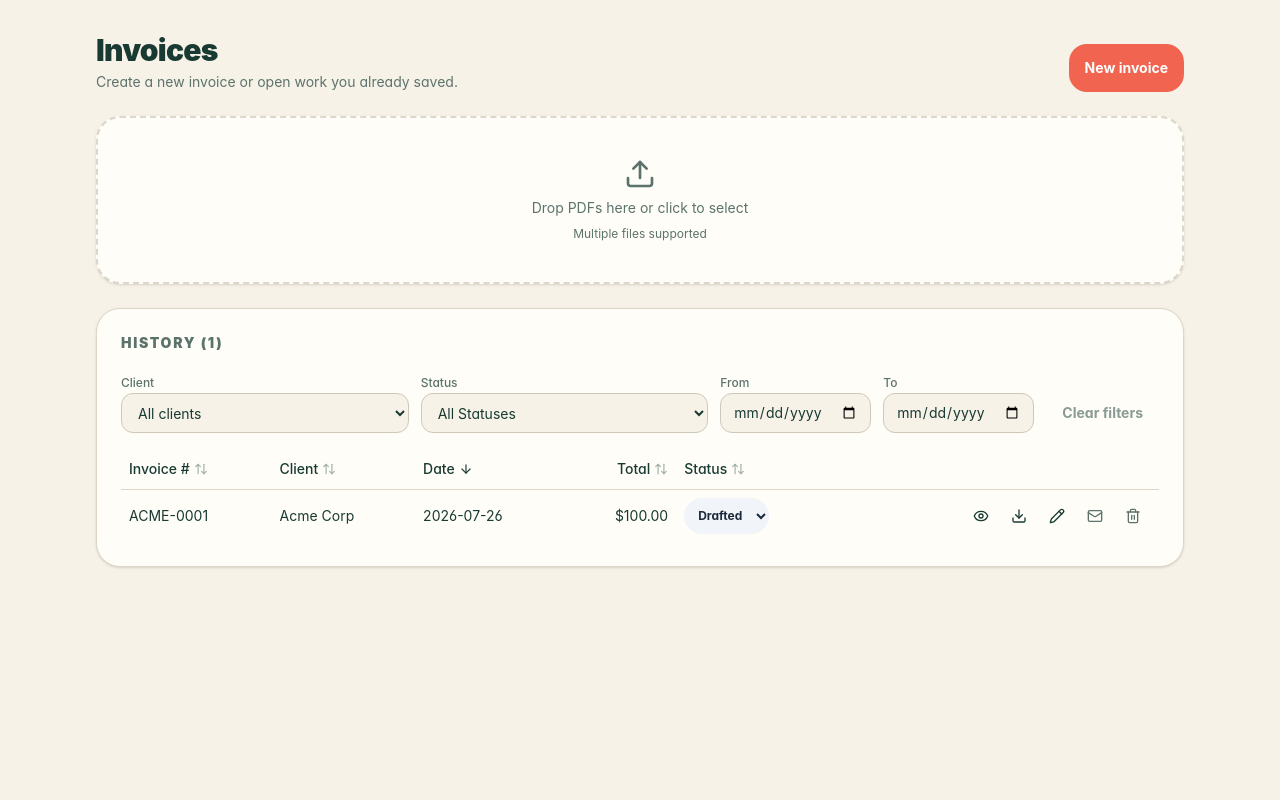
it: InvoicesPage history actions › offers Pro once the Free email allowance is used up
Click the button named "Email invoice": (1095, 516) [1077,498,1113,534]
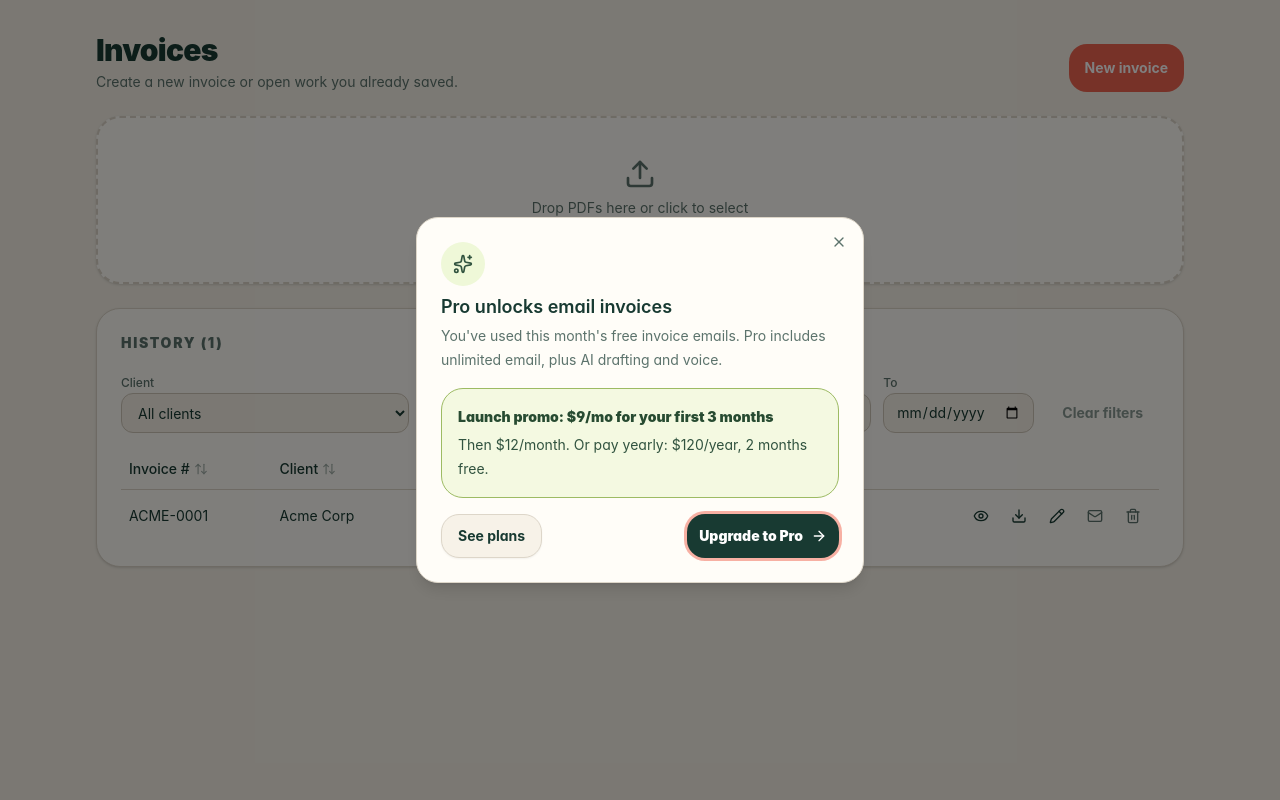
Expected: the dialog shows "used this month's free invoice emails", [441,327,826,368]
